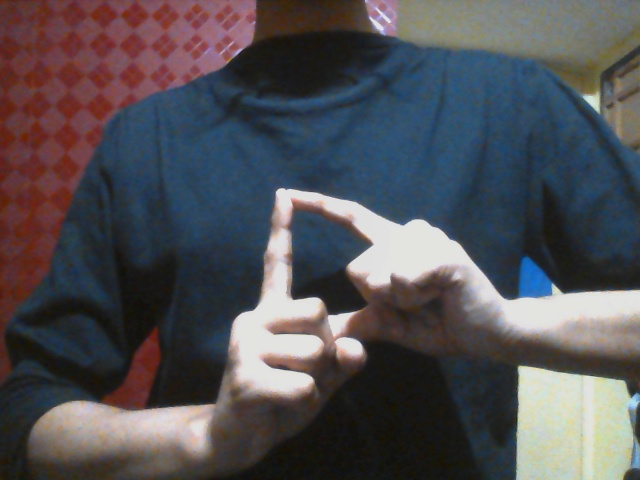D: (216, 185, 498, 472)
